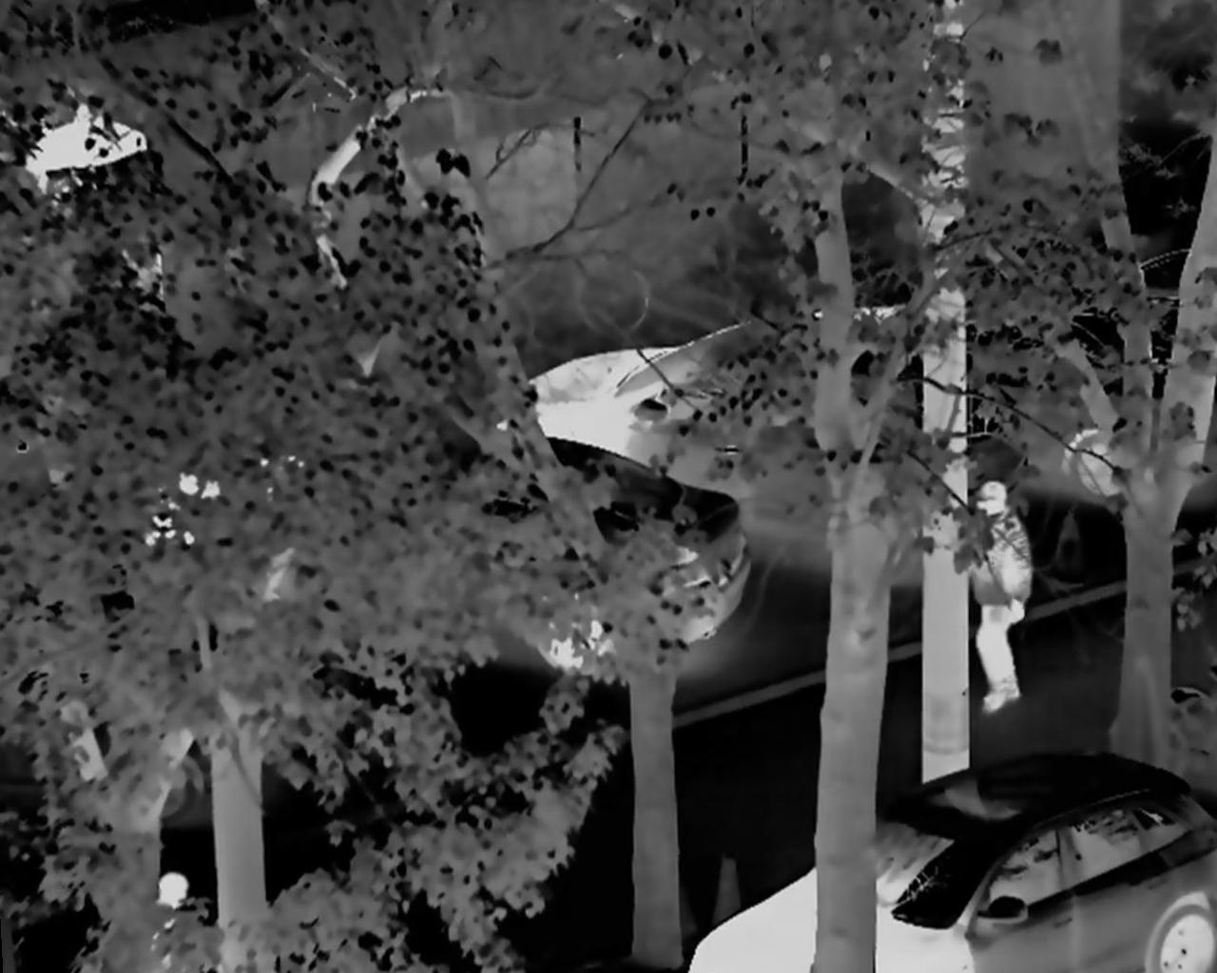person: (956, 480, 1039, 708)
